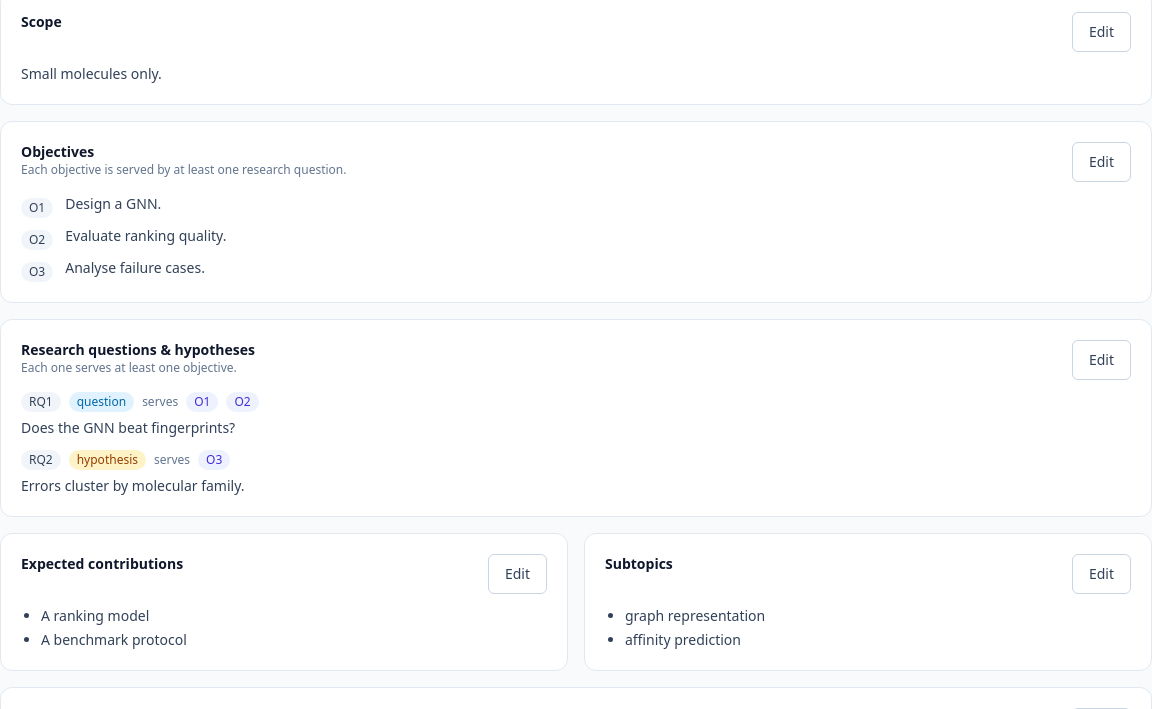
PlanCards › won't save a hypothesis phrased as a question
(page scrolled)
Click the button with aria-label "Edit Research questions & hypotheses".
click(1101, 360)  # box [1072,340,1131,380]
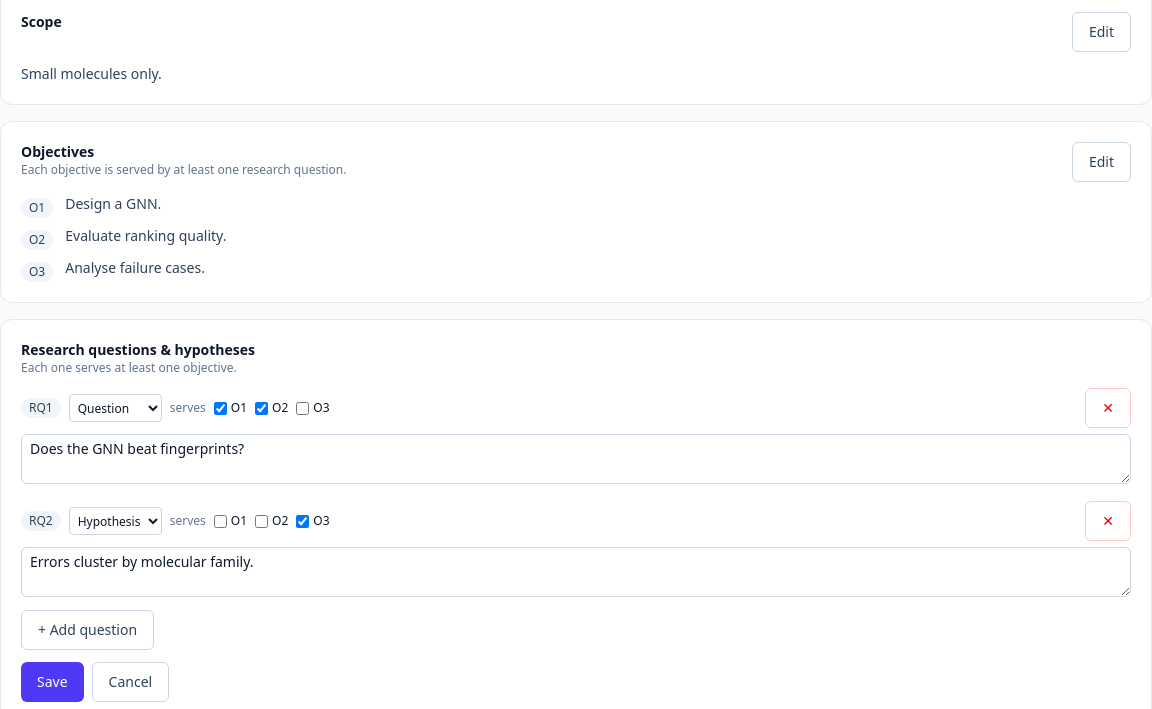
Select "Hypothesis" in the dropdown named "RQ1 type" at {"x": 115, "y": 408}, box [69,394,162,422]
(page scrolled)
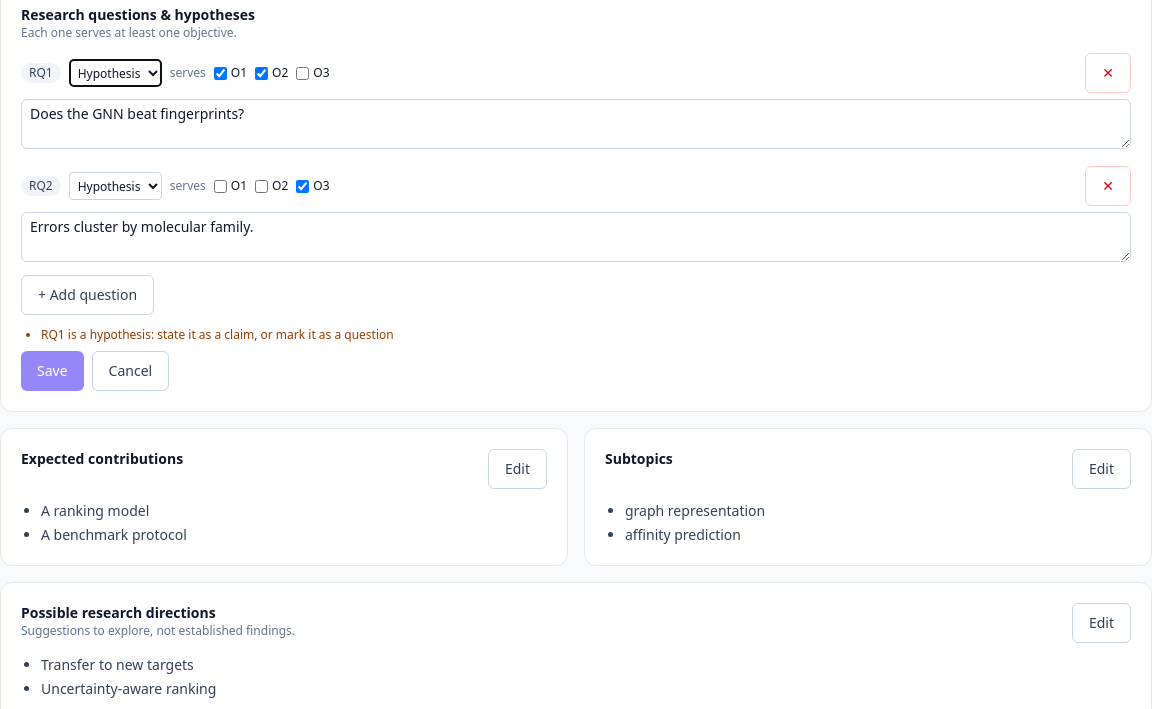
Expected: the list named "Problems to fix" shows "RQ1 is a hypothesis: state it as a claim", [41,326,394,343]
Expected: the button "Save" is disabled, [21,351,84,391]
